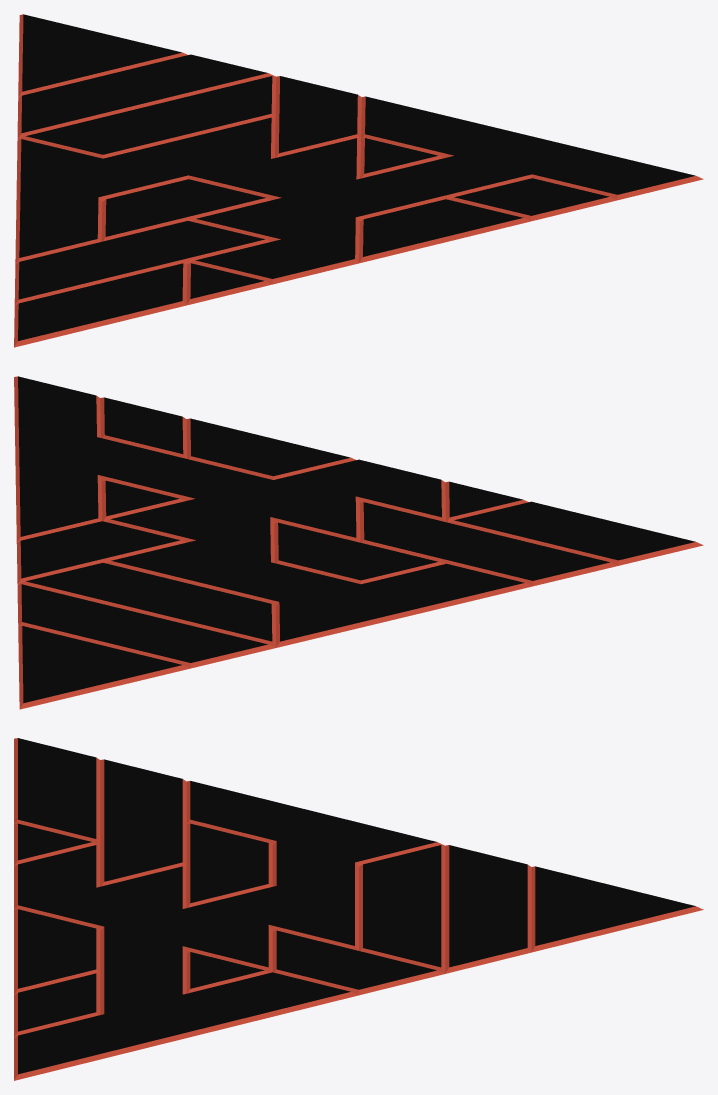
File: Cyberpunk Triangle Tile.005.glb
3 views of the same model, one above another, from view 1: azimuth 30°, elevation 25°; view 2: azimuth 150°, elevation 25°; view 3: azimuth 270°, elevation 25° (orthographic).
Visible parts, largest first — view 1: Cyberpunk Triangle Tile.005; view 2: Cyberpunk Triangle Tile.005; view 3: Cyberpunk Triangle Tile.005.
Part boxes in pixels (left/top/right/bottom): Cyberpunk Triangle Tile.005: left=14, top=14, right=703, bottom=347; Cyberpunk Triangle Tile.005: left=14, top=376, right=703, bottom=709; Cyberpunk Triangle Tile.005: left=14, top=738, right=703, bottom=1080.
Bounding box in the file's own units: 1.02 × 0.005 × 0.8664.
1 material, 1 textured.
